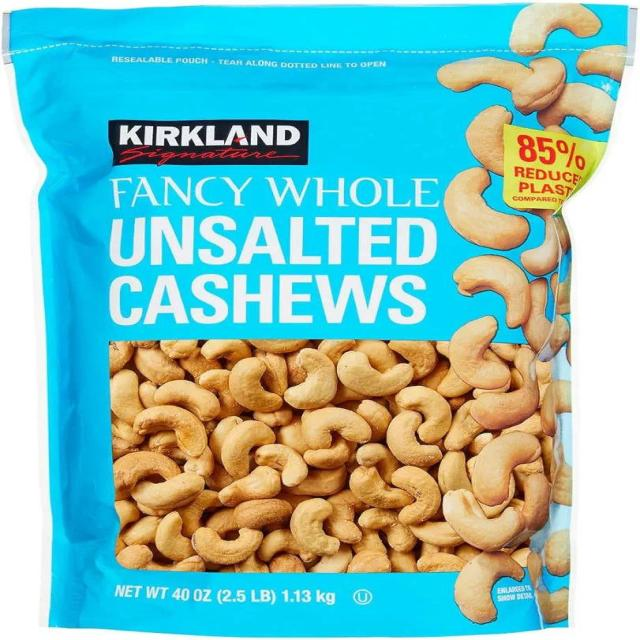food-package: (34, 9, 612, 630)
